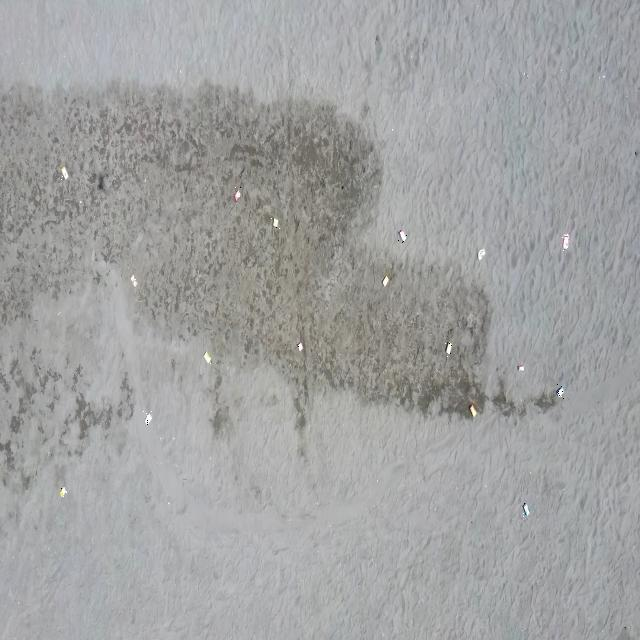Garbage: (60, 164, 68, 180), (397, 228, 406, 241), (232, 188, 240, 201), (144, 412, 151, 426), (562, 233, 568, 249), (203, 351, 211, 363), (476, 248, 484, 260), (468, 403, 475, 416), (522, 502, 528, 517), (129, 275, 136, 287), (444, 343, 451, 355), (555, 387, 564, 396), (59, 486, 67, 496), (272, 216, 279, 227), (296, 340, 303, 351), (516, 363, 524, 371), (382, 276, 388, 286)
